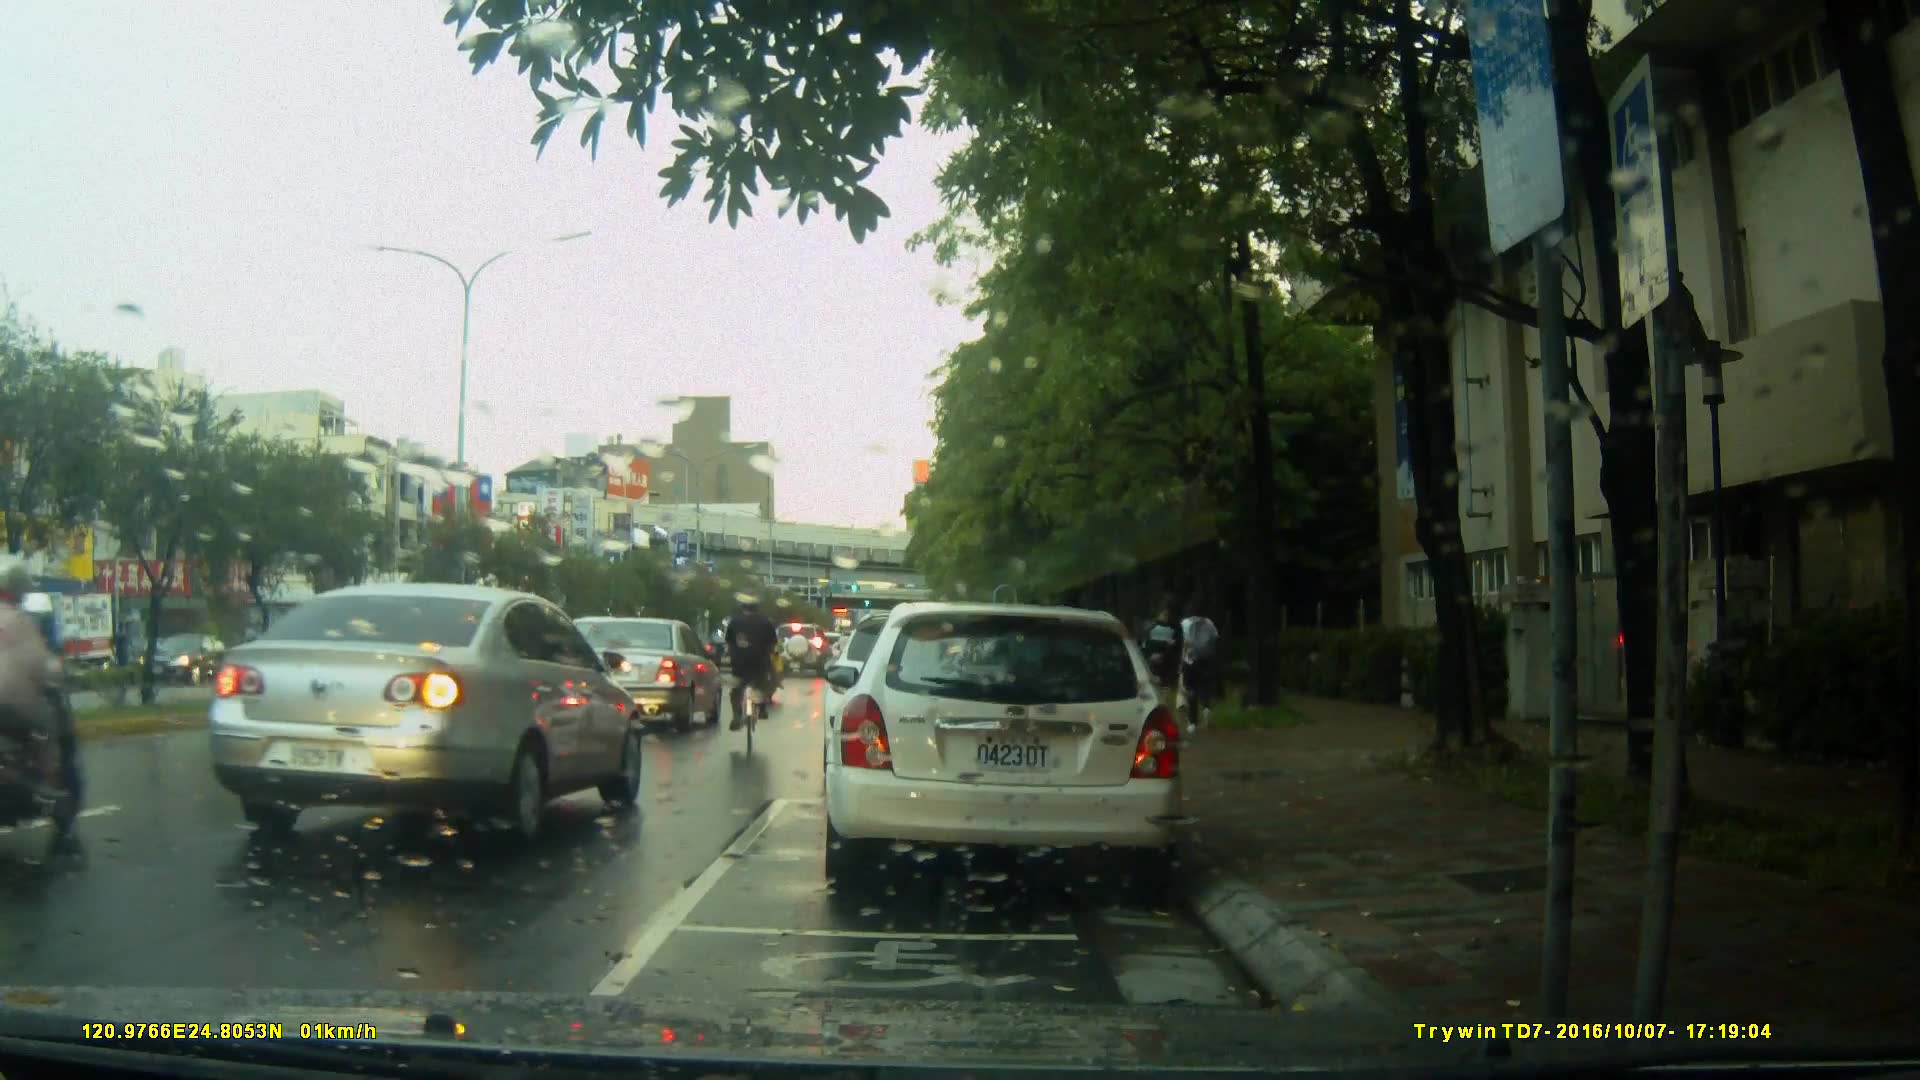pedestrian: (1169, 596, 1222, 737), (1141, 609, 1186, 702)
rider: (1, 554, 90, 861), (722, 596, 781, 770), (751, 614, 790, 710)
vehicle: (205, 581, 647, 852), (820, 602, 1188, 898), (550, 613, 723, 737), (134, 634, 239, 689)
